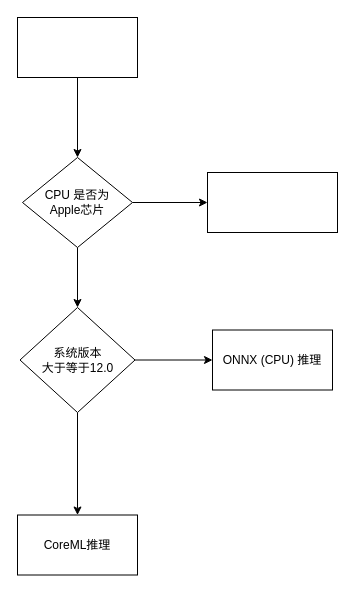
This 355x593 diagram has some shape labels left out. Each missing label, with the box of its shape:
OpenVINO (CPU) 推理: (206, 172, 338, 232)
开始: (16, 16, 138, 78)
